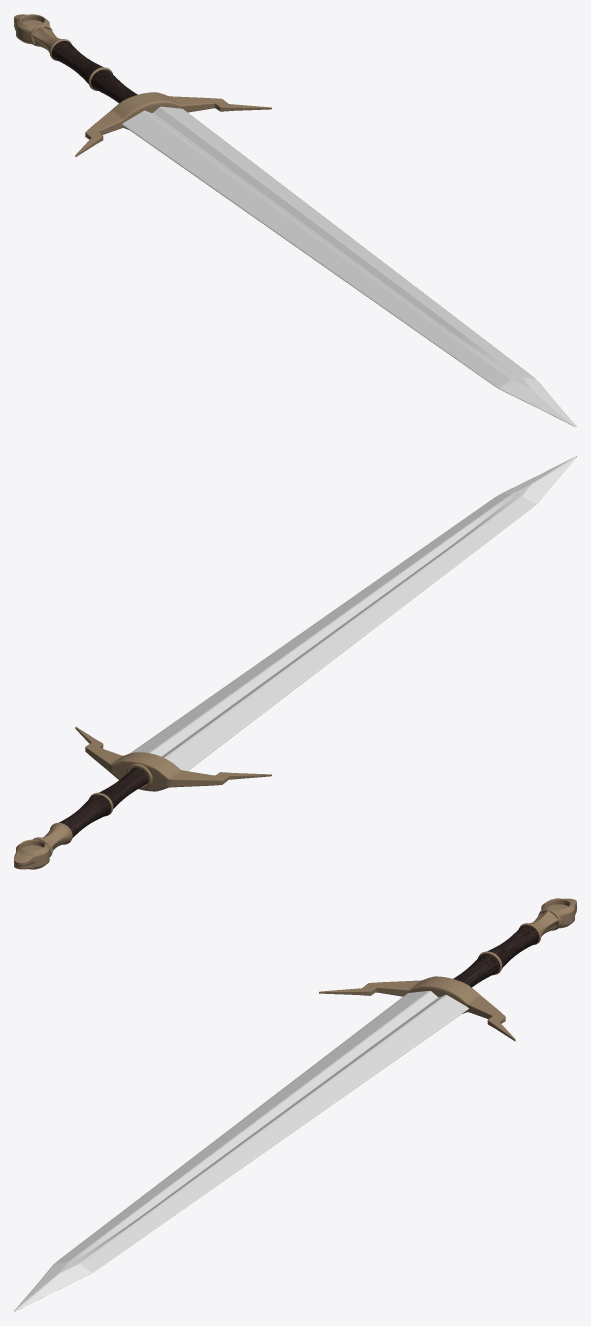
Rendered from sword.glb.
3 renders of one model, top to bottom at view 1: azimuth 30°, elevation 25°; view 2: azimuth 150°, elevation 25°; view 3: azimuth 330°, elevation 25°, orthographic.
Visible parts, largest first — view 1: Cube, Cylinder.001, Cylinder, Cylinder.003; view 2: Cube, Cylinder.001, Cylinder, Cylinder.003; view 3: Cube, Cylinder.001, Cylinder, Cylinder.003.
Boxes of the visible parts, left/top/right/bottom form: Cube: left=122, top=106, right=576, bottom=427; Cylinder.001: left=75, top=92, right=271, bottom=156; Cylinder: left=51, top=41, right=137, bottom=103; Cylinder.003: left=14, top=14, right=49, bottom=44; Cube: left=130, top=456, right=576, bottom=771; Cylinder.001: left=75, top=726, right=271, bottom=791; Cylinder: left=59, top=767, right=148, bottom=837; Cylinder.003: left=14, top=839, right=49, bottom=869; Cube: left=14, top=991, right=468, bottom=1311; Cylinder.001: left=319, top=976, right=515, bottom=1041; Cylinder: left=453, top=925, right=539, bottom=987; Cylinder.003: left=541, top=898, right=576, bottom=928.
Size of the model in its own units: 1.78 by 0.2429 by 8.76.
Materials: 6 (1 with a texture image).
